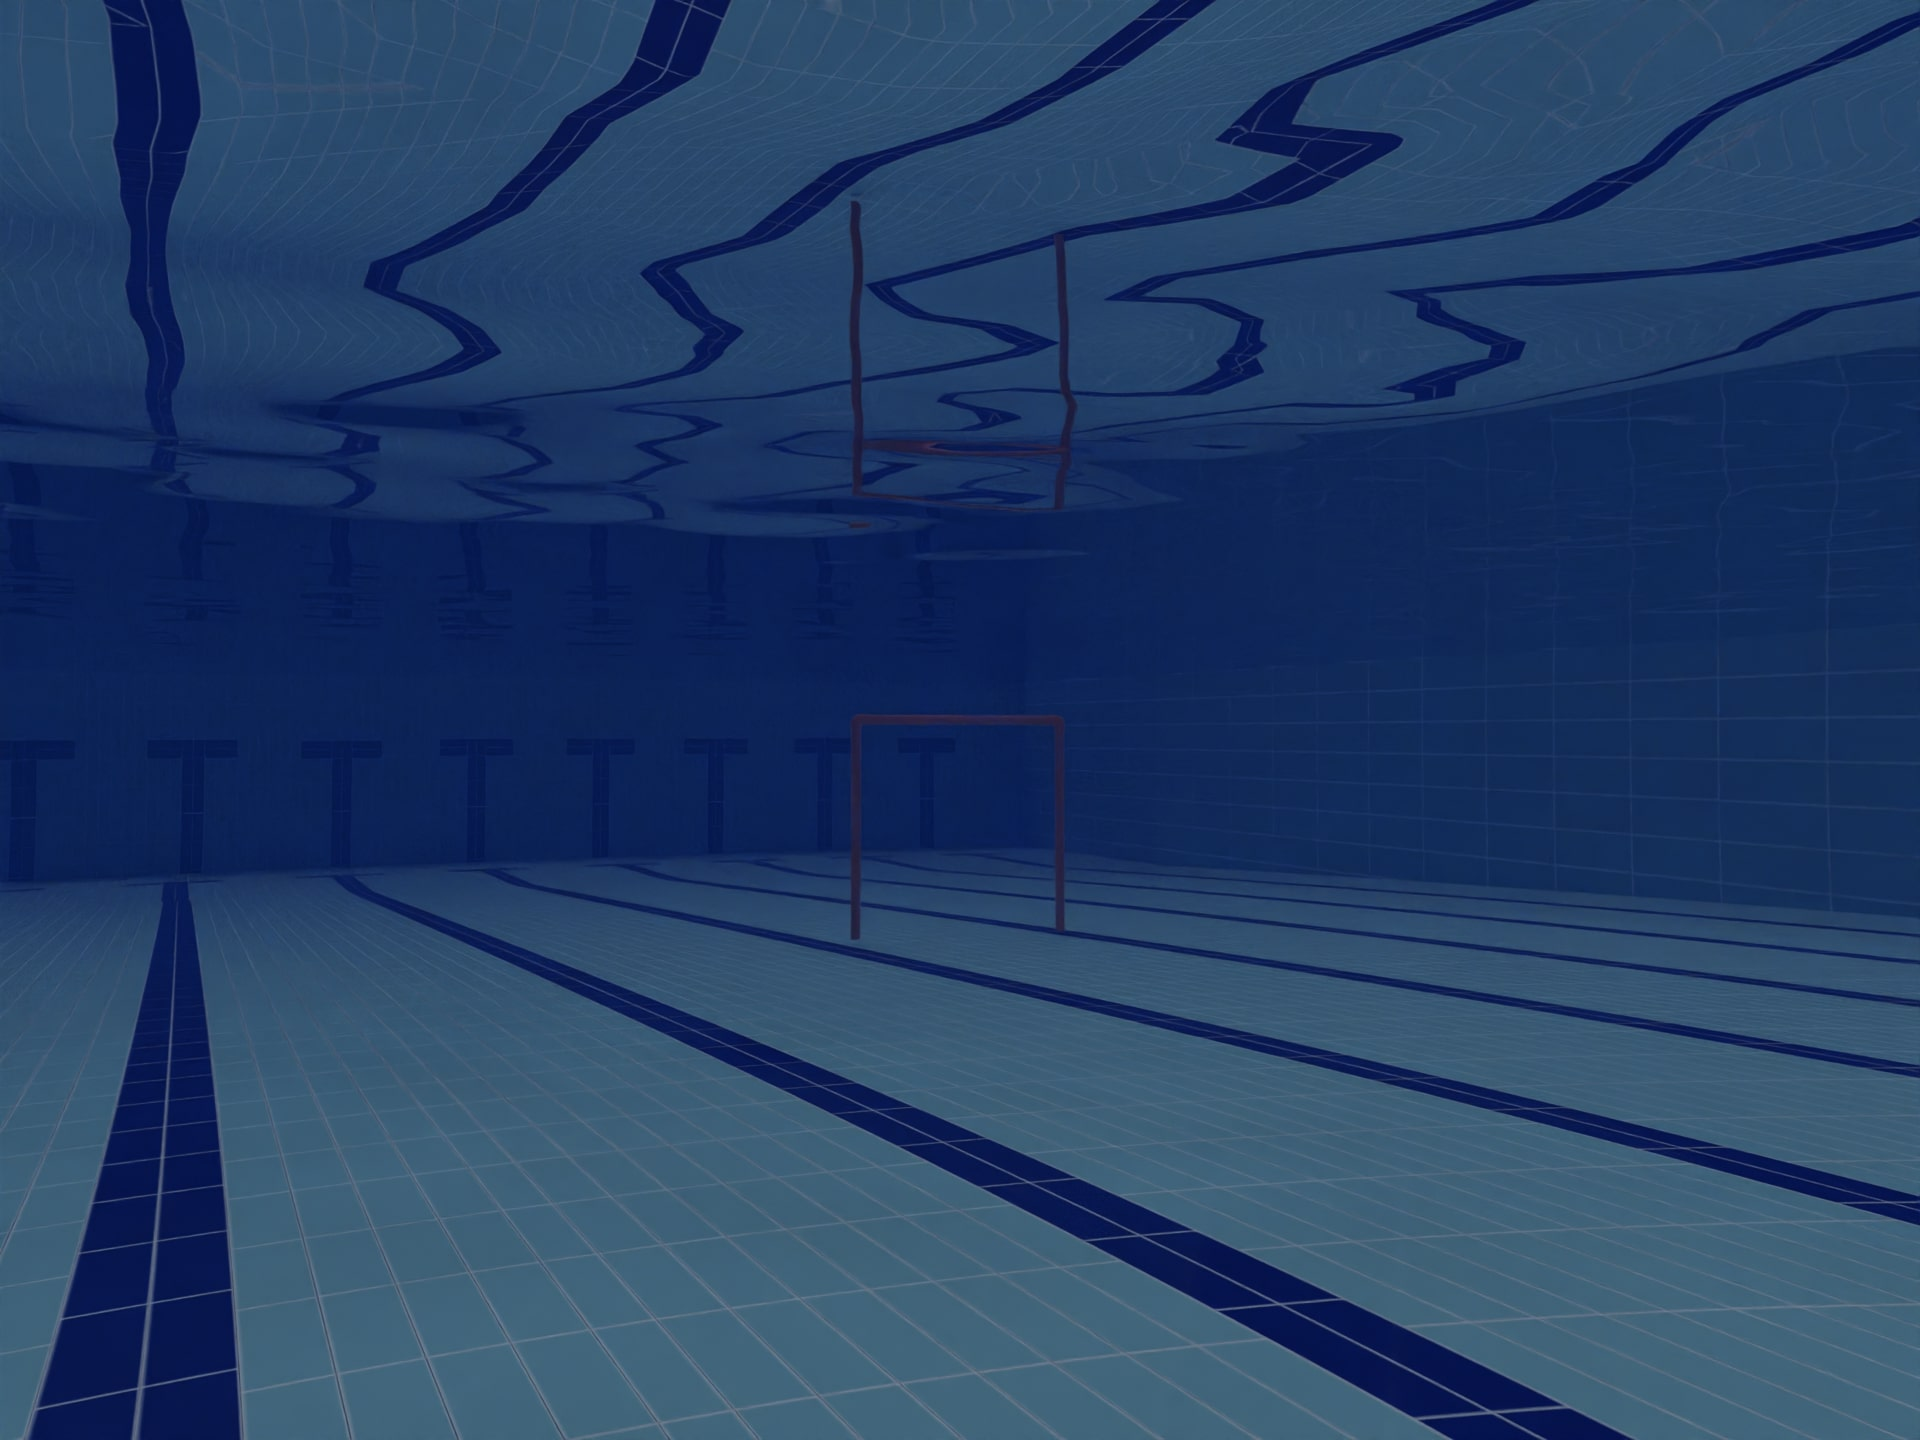gate: (833, 672, 1102, 961)
